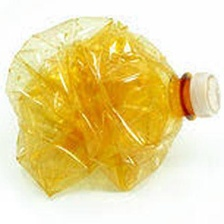bottle: (1, 13, 224, 207)
